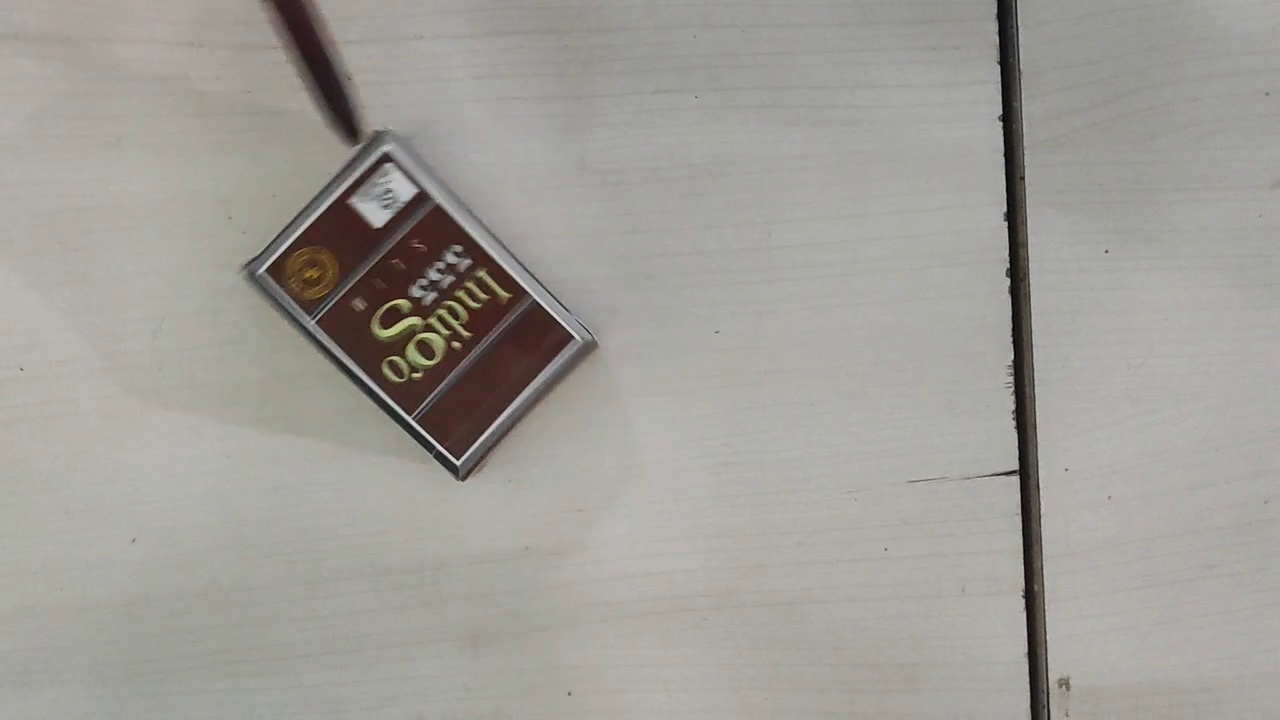BEX: (262, 147, 576, 462)
